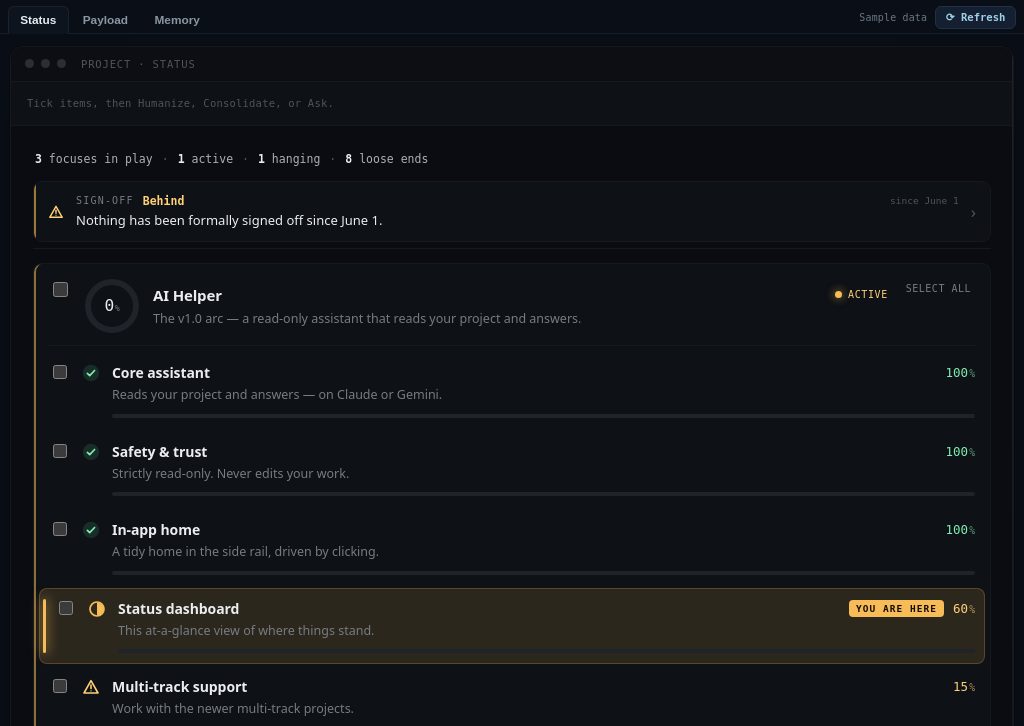
Test: Payload / Memory tabs keep their scored dashboards
Click the button with test id "assistant-tab-payload". click: (105, 20)
box: [70,6,140,33]
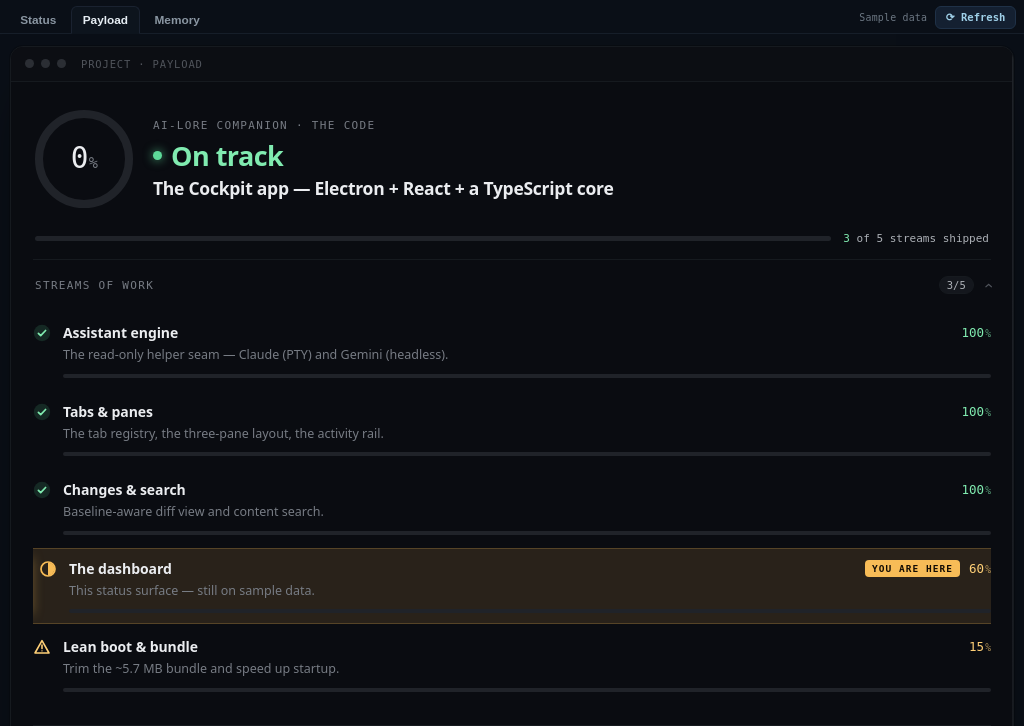
Now the text with test id "dashboard-headline" shows "Electron", box [153,176,614,200]
Click the button with test id "assistant-tab-memory". click: (177, 20)
box: [142,6,212,33]
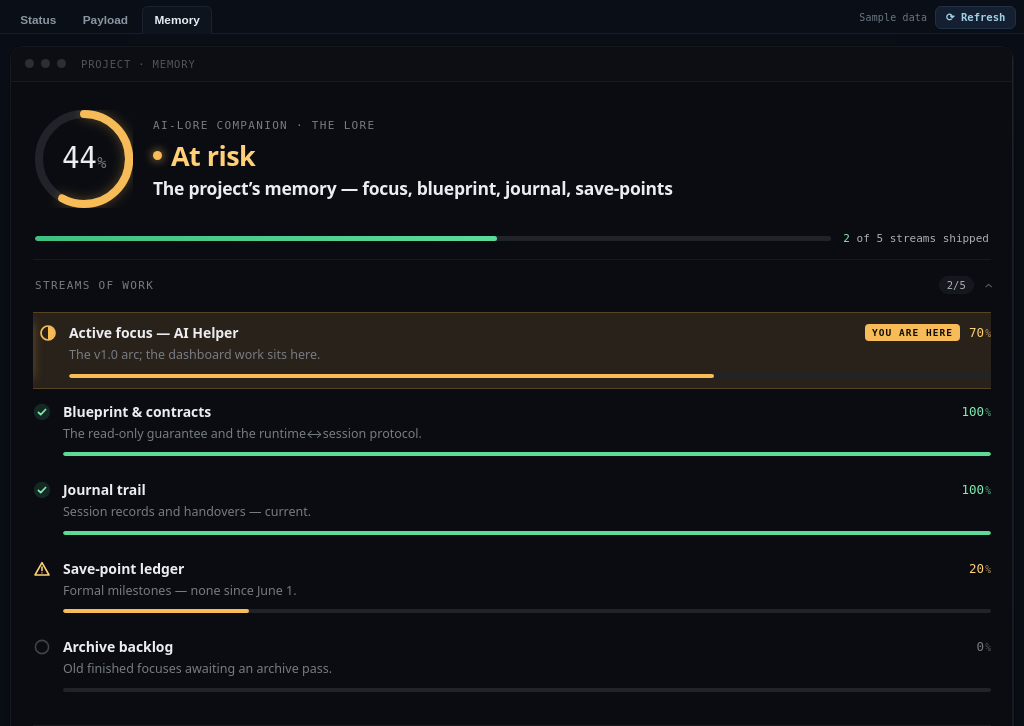
Now the text with test id "dashboard-headline" shows "memory", box [153,176,673,200]
